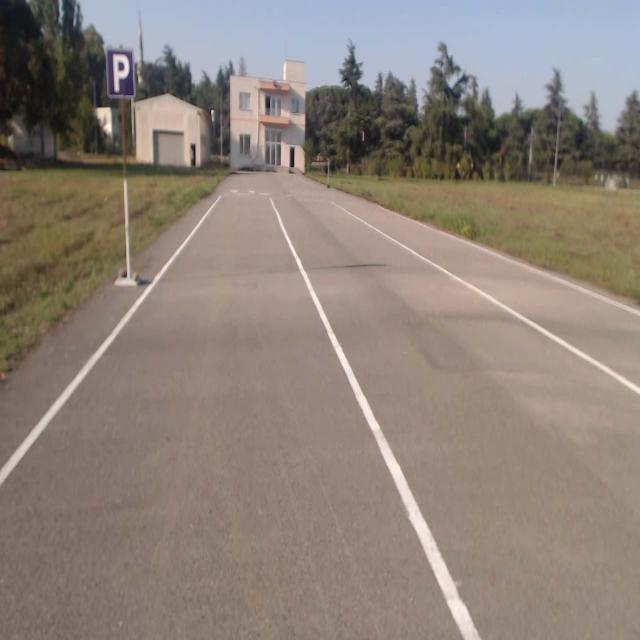park: (106, 48, 134, 98)
